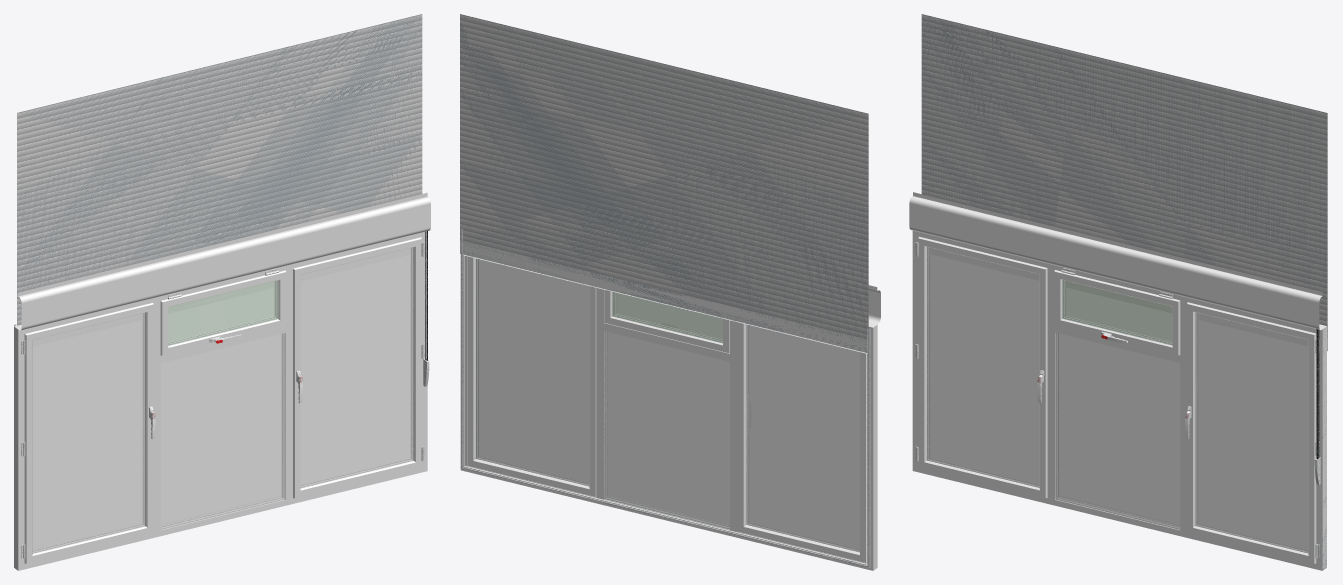
The model's file is Window1_220x143x[3 casement_blinds].dae.
3 views of the same model, side by side, from view 1: azimuth 30°, elevation 25°; view 2: azimuth 150°, elevation 25°; view 3: azimuth 330°, elevation 25° (orthographic).
Parts seen in each view (by area): view 1: group_16 (×4), group_33, group_19 (×3), group_29, group_17 (×4), group_8 (×2), group_7; view 2: group_33 (×2), group_16 (×4), group_19 (×3), group_17 (×4), group_8 (×2), group_28 (×2), group_7; view 3: group_16 (×4), group_33, group_19 (×4), group_29, group_17 (×4), group_8 (×2), group_7.
Part boxes in pixels (box(x1,y1,x2,y2)): group_16 (×4): box(32, 247, 413, 553); group_33: box(17, 14, 422, 325); group_19 (×3): box(14, 231, 427, 570); group_29: box(18, 192, 430, 330); group_17 (×4): box(24, 237, 421, 563); group_8 (×2): box(168, 280, 278, 345); group_7: box(160, 270, 285, 355); group_33 (×2): box(459, 14, 868, 353); group_16 (×4): box(476, 258, 859, 552); group_19 (×3): box(460, 255, 877, 570); group_17 (×4): box(467, 256, 866, 562); group_8 (×2): box(612, 291, 722, 343); group_28 (×2): box(461, 228, 873, 567); group_7: box(604, 290, 729, 353); group_16 (×4): box(927, 247, 1308, 553); group_33: box(921, 14, 1327, 337); group_19 (×4): box(912, 230, 1326, 570); group_29: box(909, 192, 1322, 329); group_17 (×4): box(918, 236, 1316, 563); group_8 (×2): box(1062, 280, 1172, 345); group_7: box(1054, 270, 1180, 355).
Size of the model in its own units: 86.63 by 4.24 by 91.71.
Materials: 13 (1 with a texture image).
